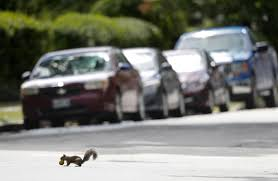squirrel: (56, 146, 99, 167)
